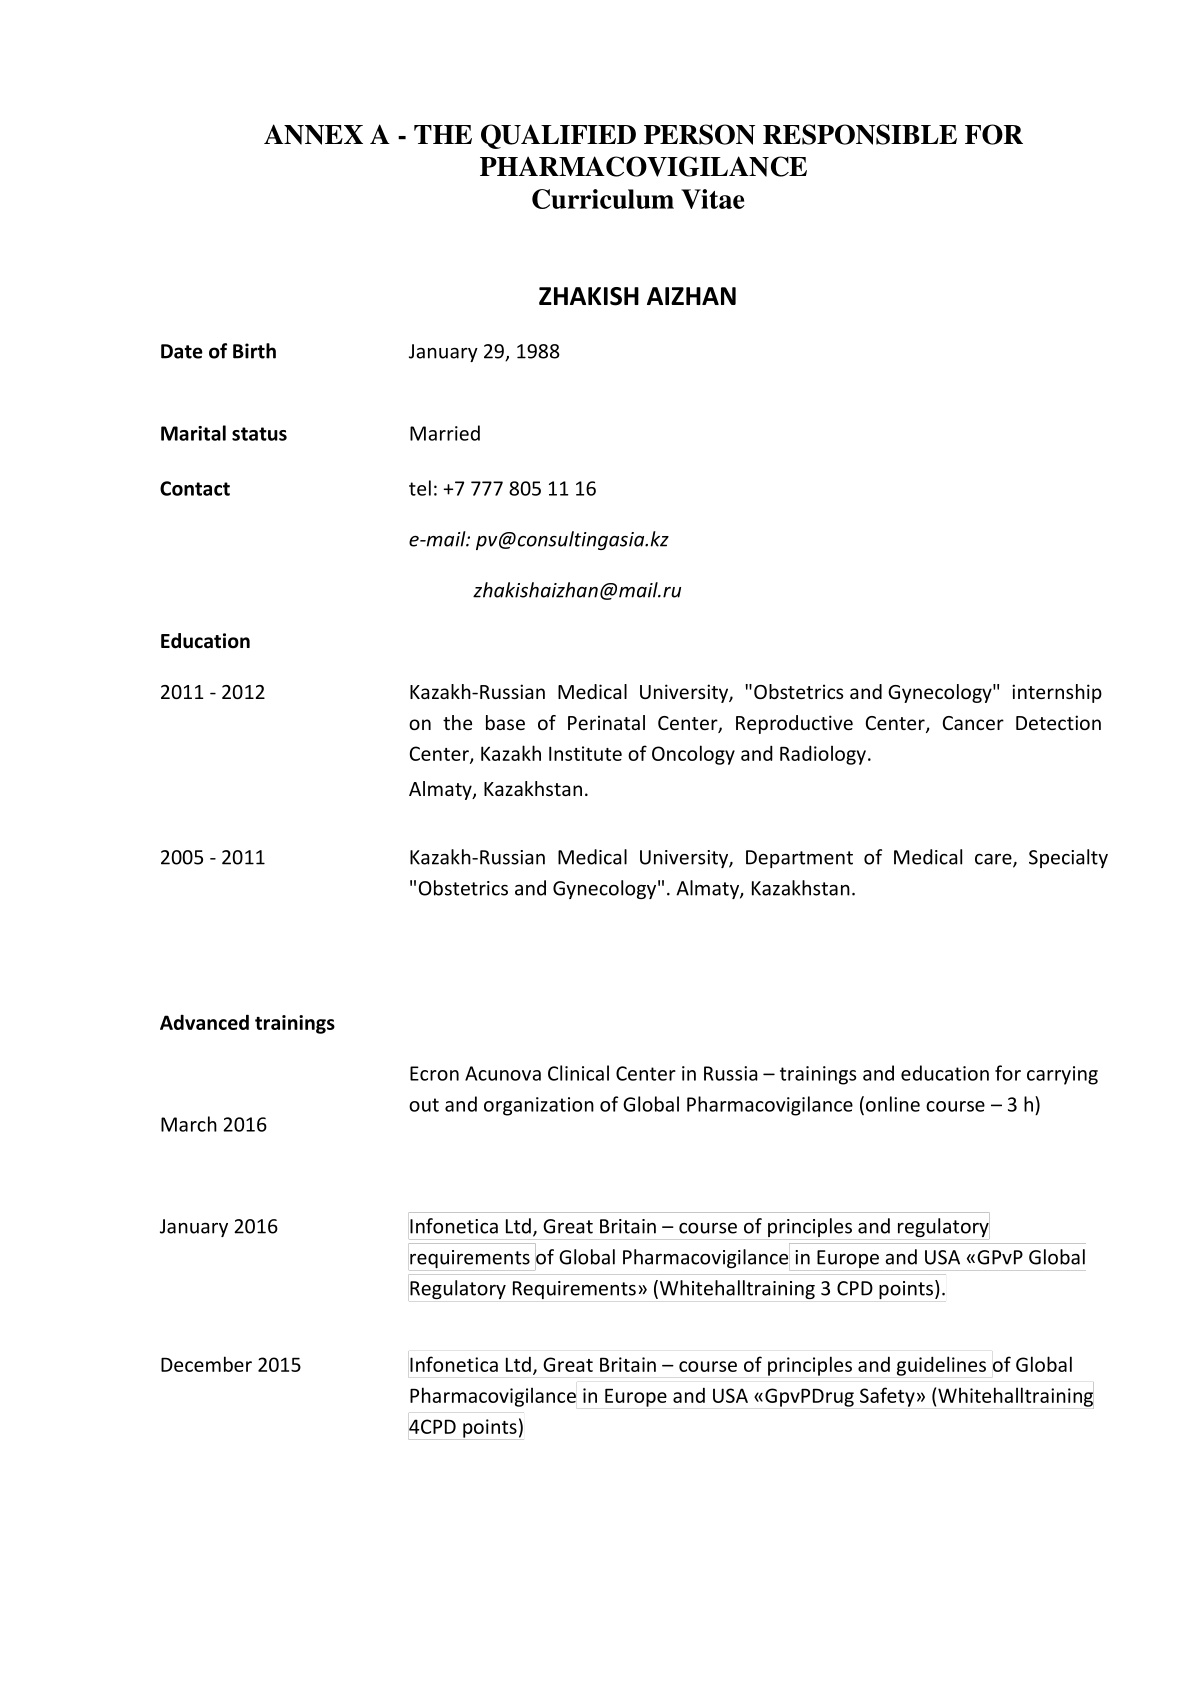nolines: (153, 338, 1112, 1443)
